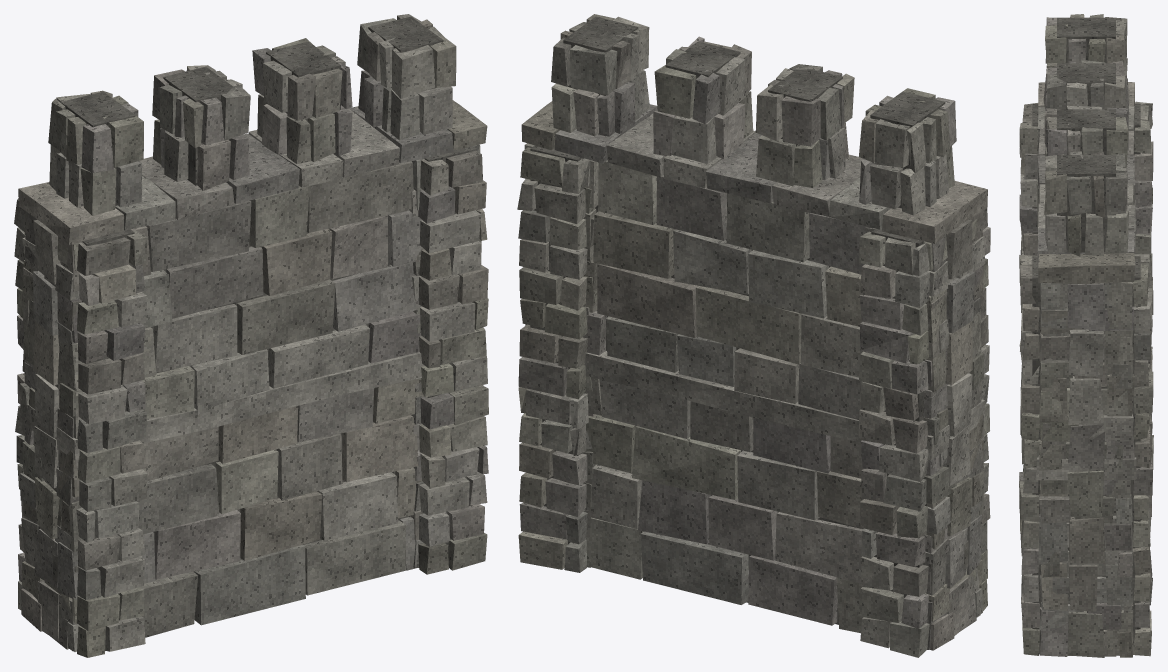
Rendered from muro_pedra_grande.glb.
The picture shows the model from 3 angles, left to right: view 1: azimuth 30°, elevation 25°; view 2: azimuth 150°, elevation 25°; view 3: azimuth 270°, elevation 25°; orthographic projection. The views are drawn at different scales.
Visible parts, largest first — view 1: muro_pedra_grande_pedra; view 2: muro_pedra_grande_pedra; view 3: muro_pedra_grande_pedra.
Boxes of the visible parts, x1,y1,x2,y2 form: muro_pedra_grande_pedra: (14,14,488,657); muro_pedra_grande_pedra: (517,14,990,657); muro_pedra_grande_pedra: (1019,14,1153,657).
Bounding box in the file's own units: 6.16 × 7.21 × 1.87.
Materials: 1 (1 with a texture image).
